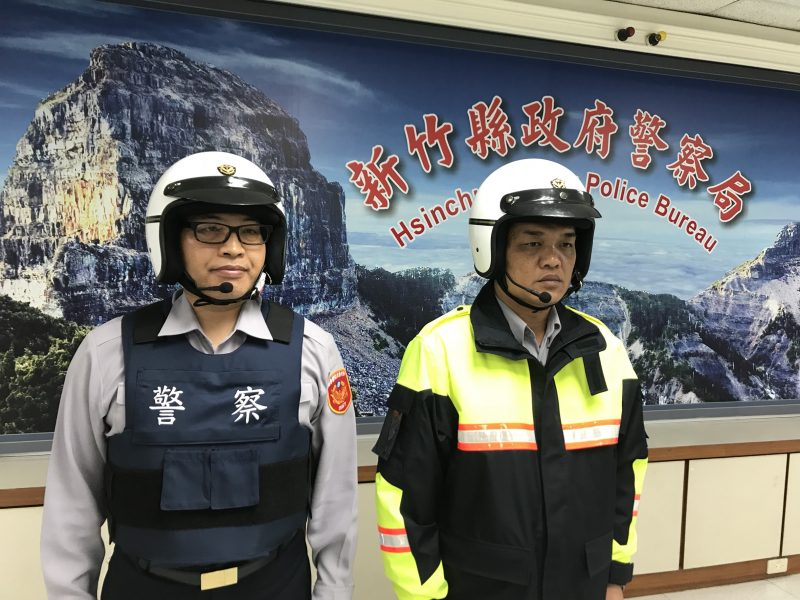helmet: (124, 153, 311, 282), (468, 162, 608, 249)
